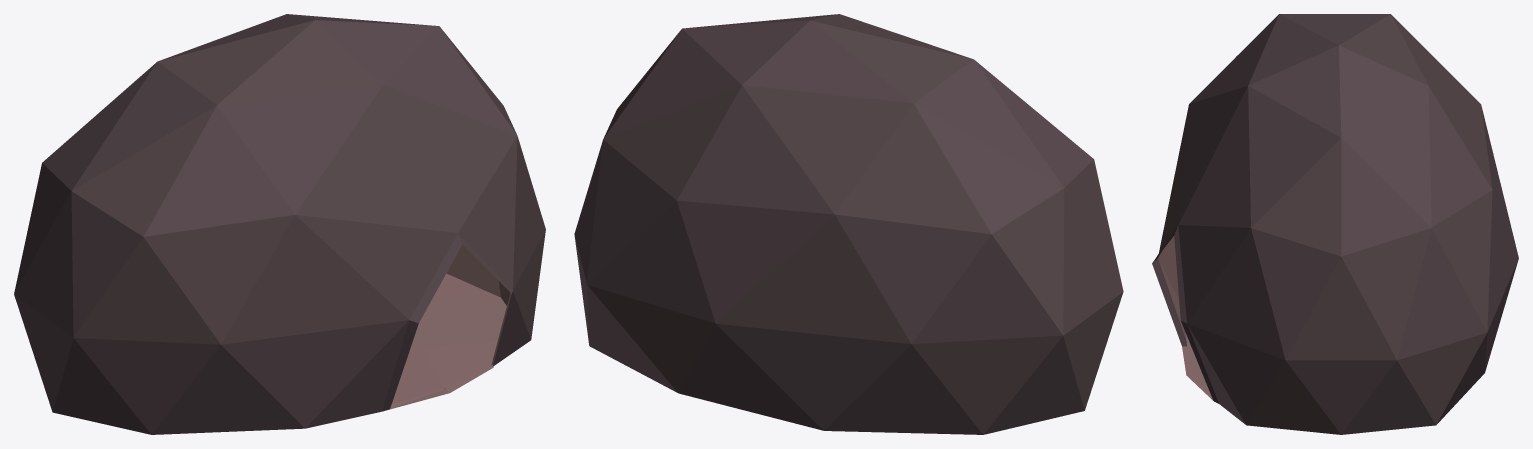
The model's file is mudhouse.fbx.
The picture shows the model from 3 angles, left to right: view 1: azimuth 30°, elevation 25°; view 2: azimuth 150°, elevation 25°; view 3: azimuth 270°, elevation 25°; orthographic projection. The views are drawn at different scales.
Parts seen in each view (by area): view 1: Icosphere.001; view 2: Icosphere.001; view 3: Icosphere.001.
Boxes of the visible parts, <box> form: Icosphere.001: <box>14,14,545,434</box>; Icosphere.001: <box>574,14,1123,434</box>; Icosphere.001: <box>1152,14,1518,434</box>.
Size of the model in its own units: 1575 by 1035 by 1118.
